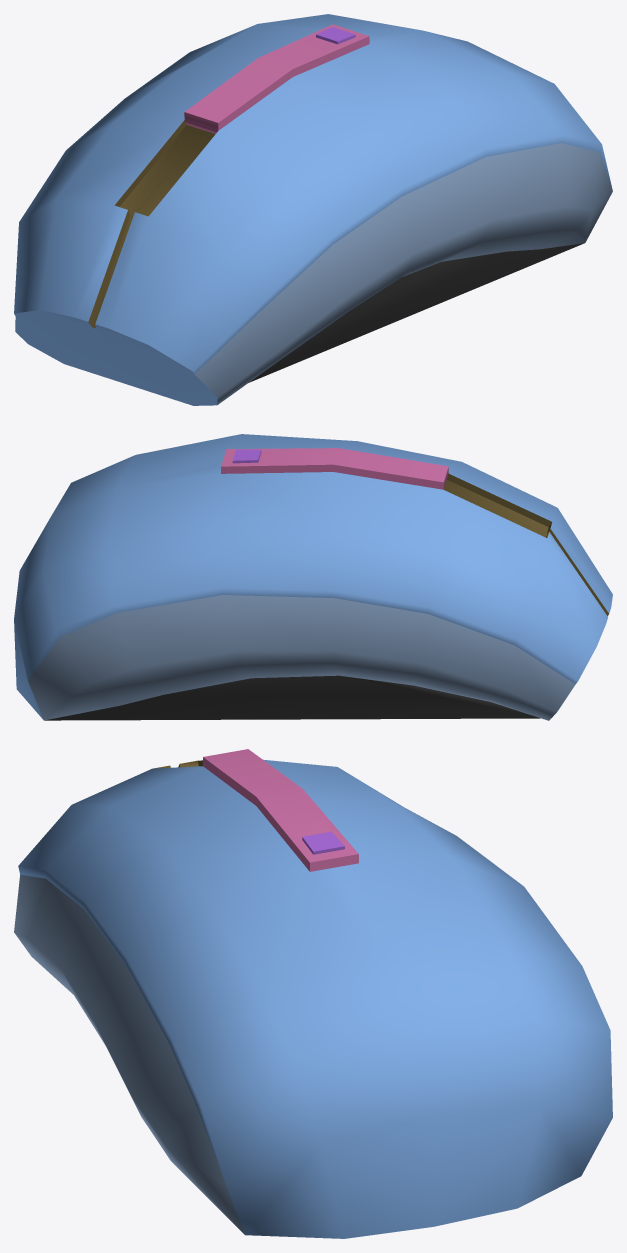
The model's file is 3d_Mouse.fbx.
The picture shows the model from 3 angles, top to bottom: view 1: azimuth 30°, elevation 25°; view 2: azimuth 150°, elevation 25°; view 3: azimuth 270°, elevation 25°; orthographic projection. The views are drawn at different scales.
Parts seen in each view (by area): view 1: 3d_Mouse; view 2: 3d_Mouse; view 3: 3d_Mouse.
Part boxes in pixels (bbox=[...]): 3d_Mouse: bbox=[14, 14, 612, 405]; 3d_Mouse: bbox=[14, 434, 612, 720]; 3d_Mouse: bbox=[14, 749, 612, 1238].
Size of the model in its own units: 0.1195 by 0.0475 by 0.0931.
